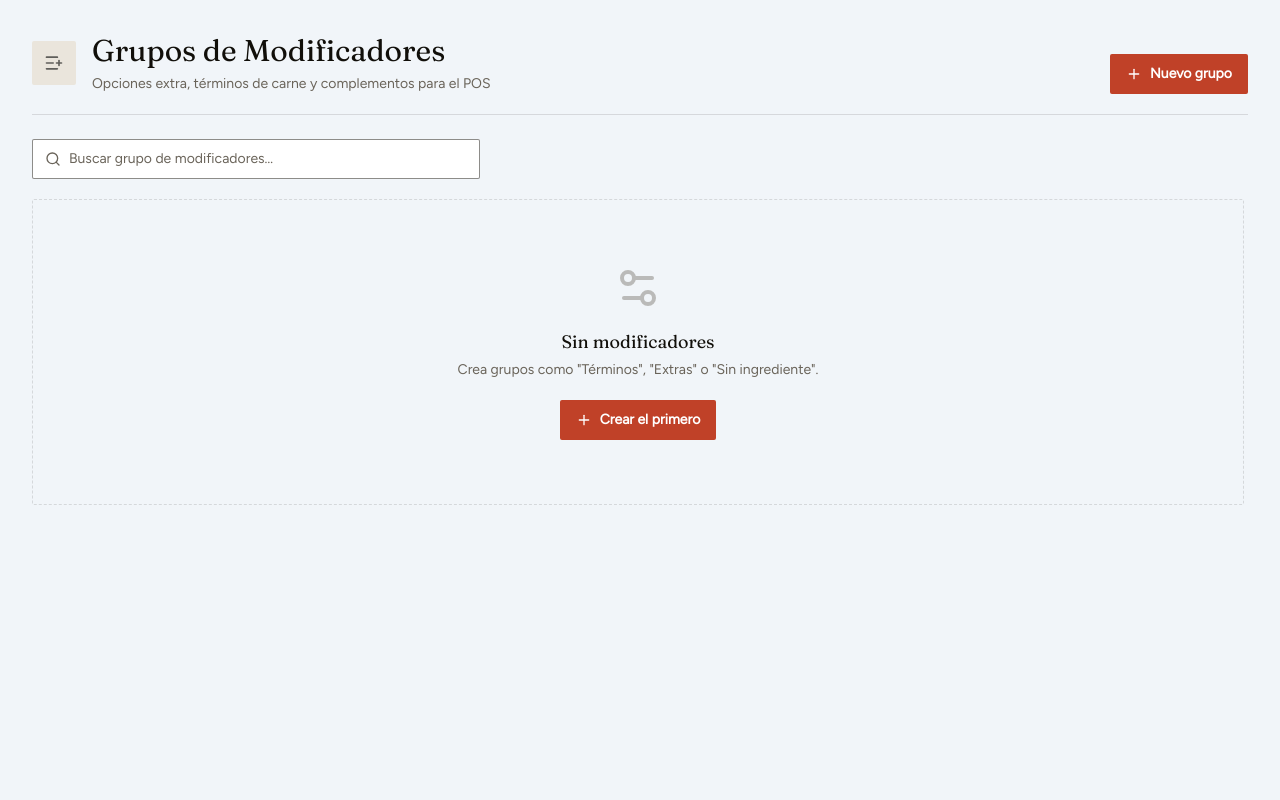
Test: ModificadoresScreen · opción con varios insumos › un renglón apartado se puede quitar antes de agregar la opción
Click the button "Nuevo grupo" at (1179, 74), box [1110, 54, 1248, 94]
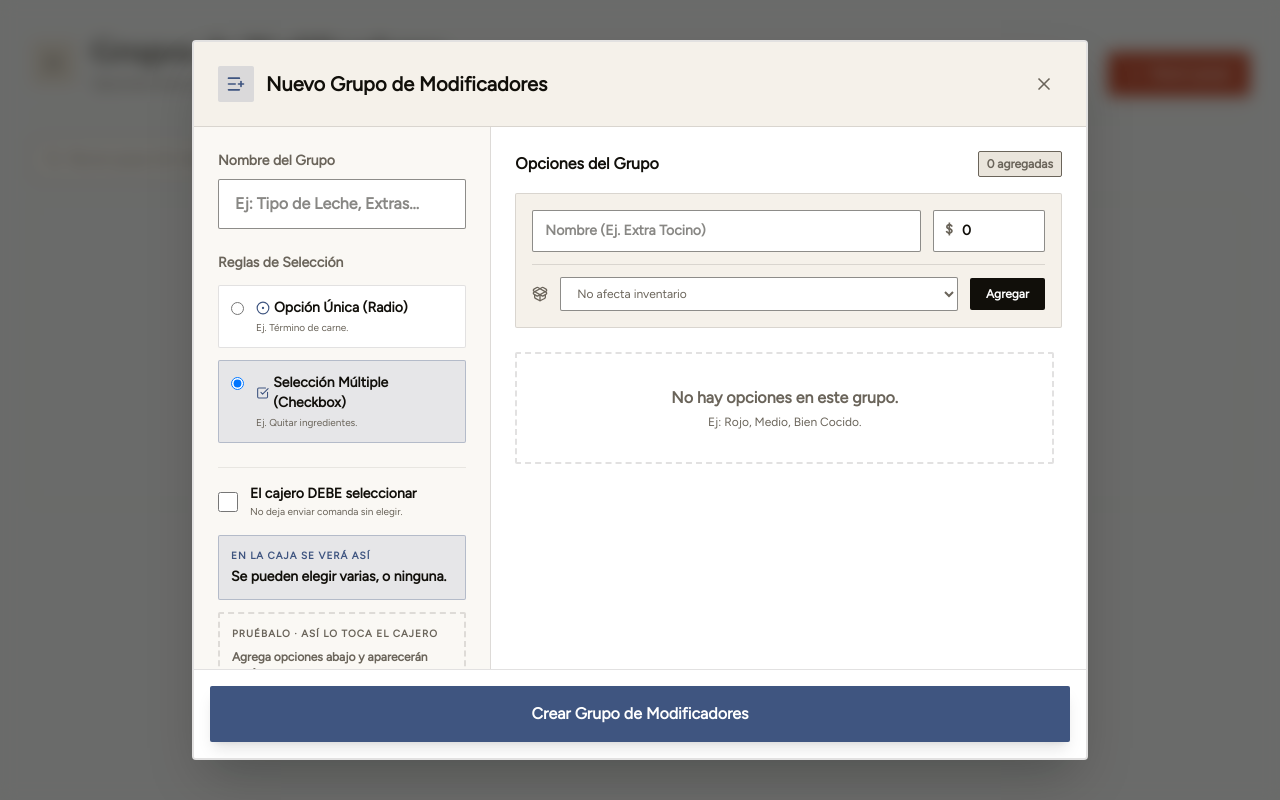
Type "Tipo de leche" into the field with placeholder "Ej: Tipo de Leche, Extras..." at (342, 204), box [218, 179, 466, 229]
Type "Deslactosada" into the field with placeholder "Nombre (Ej. Extra Tocino)" at (727, 231), box [532, 210, 921, 252]
Replace the text in the number field with placeholder "Costo" with "6" at (989, 231), box [933, 210, 1045, 252]
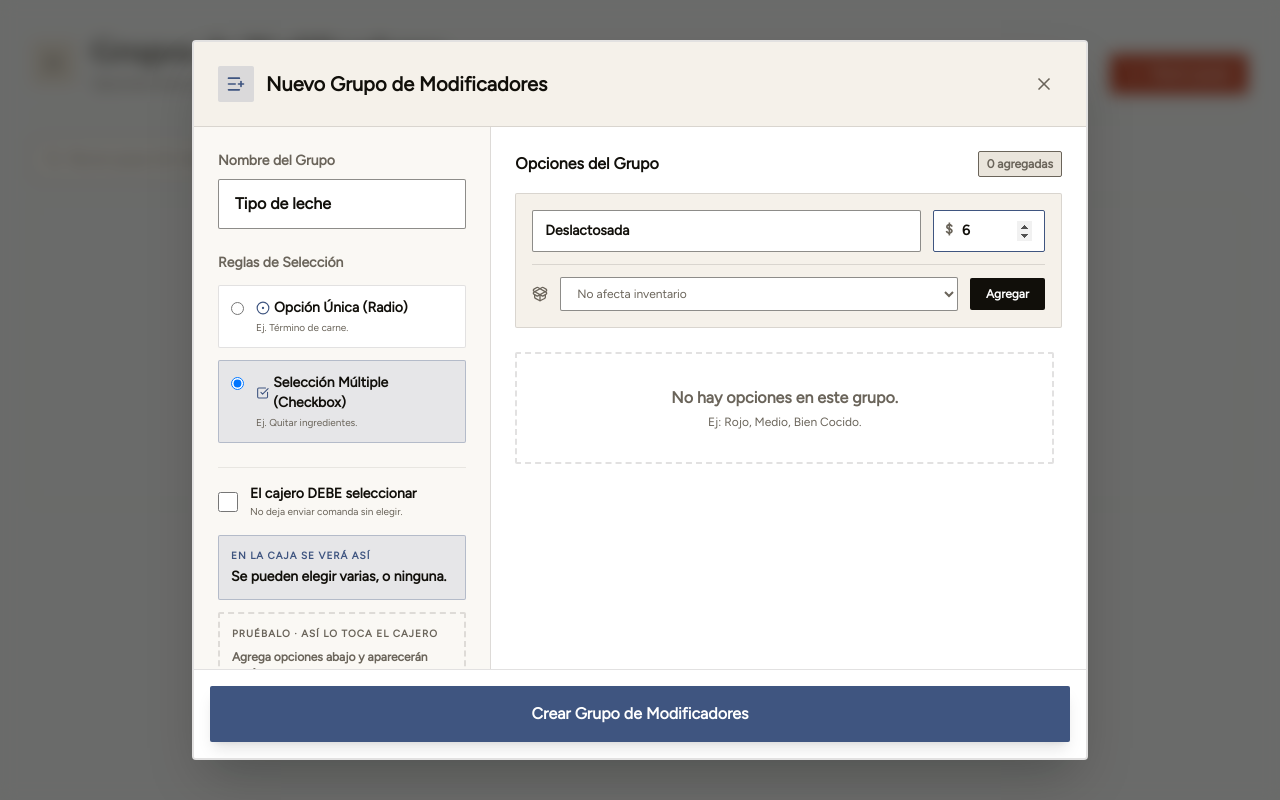
Select "Descontar: Leche Deslactosada" in the dropdown showing "No afecta inventario" at (759, 294), box [560, 277, 958, 311]
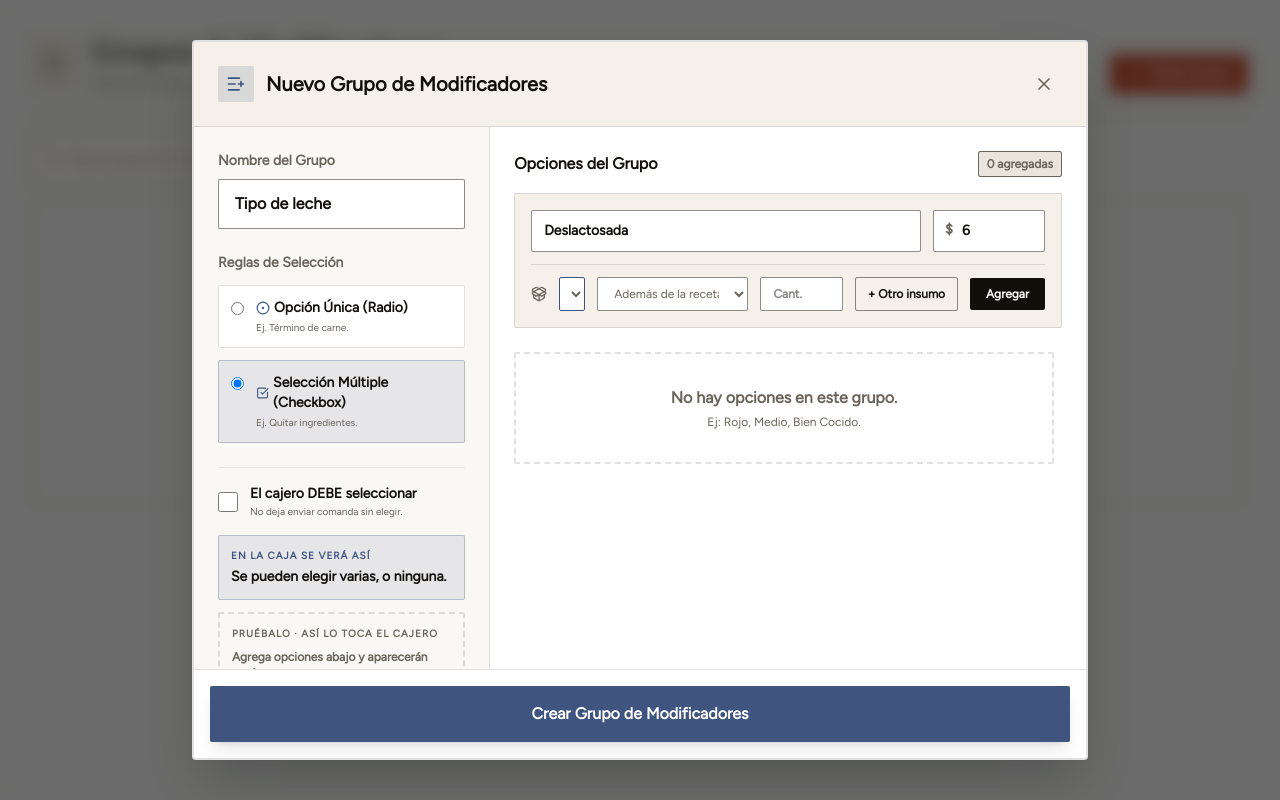
Type "30" into the number field with placeholder "Cant." at (802, 294), box [760, 277, 843, 311]
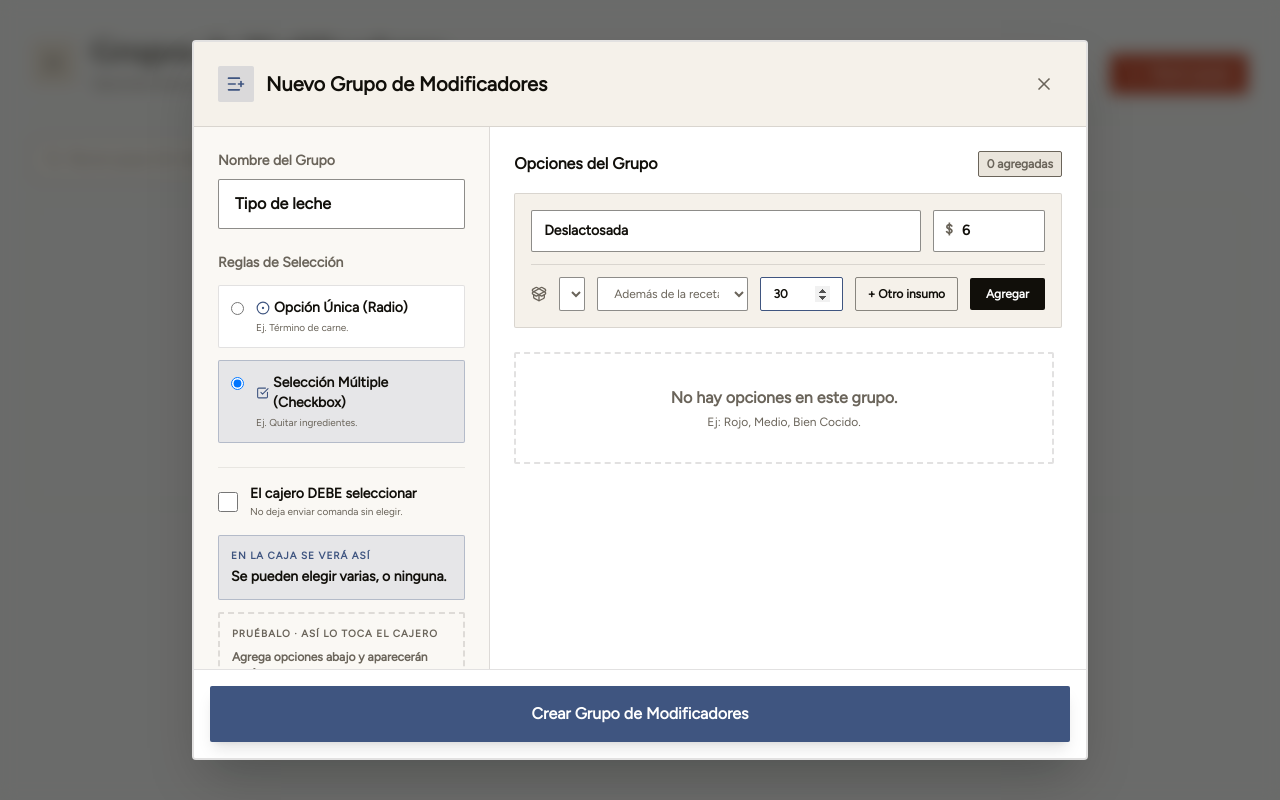
Click the button "+ Otro insumo" at (906, 294), box [855, 277, 958, 311]
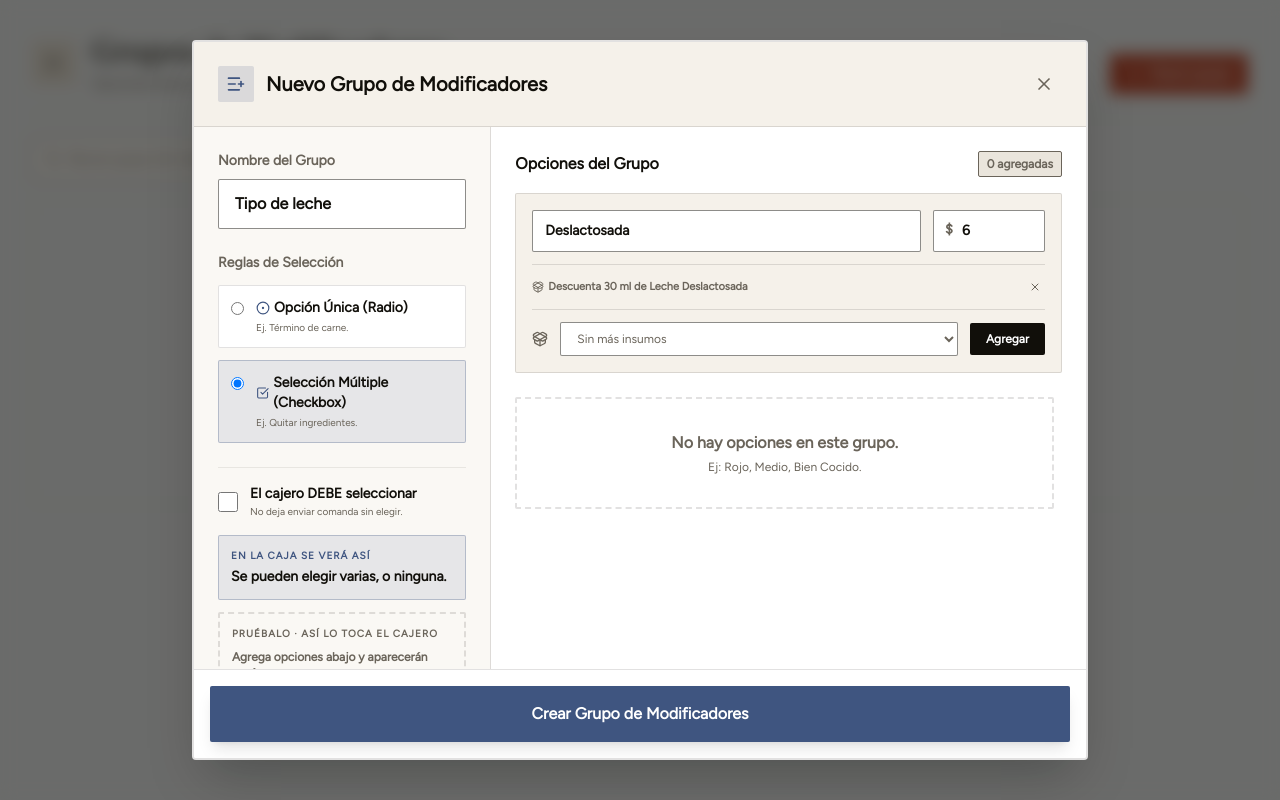
Click the button named "Quitar Leche Deslactosada" at (1035, 287), box [1025, 277, 1045, 297]
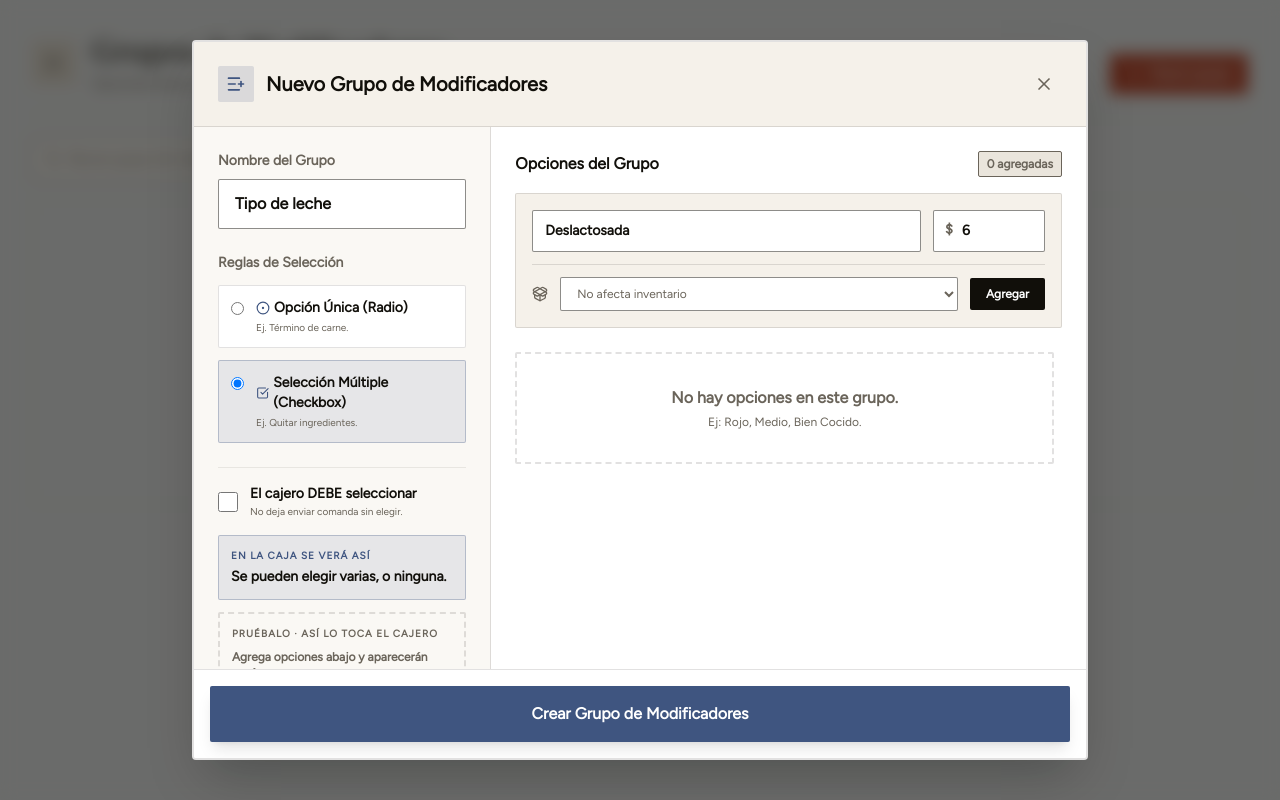
Check: the text "Descuenta 30 ml" is gone
